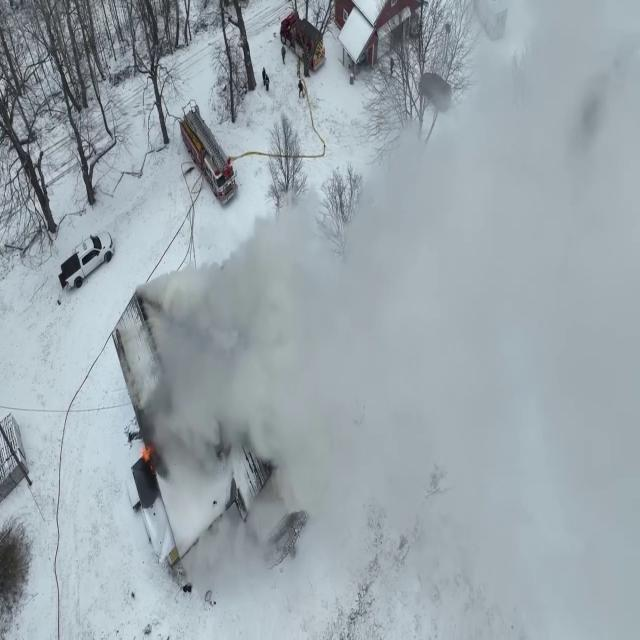Smoke: (143, 23, 640, 638)
